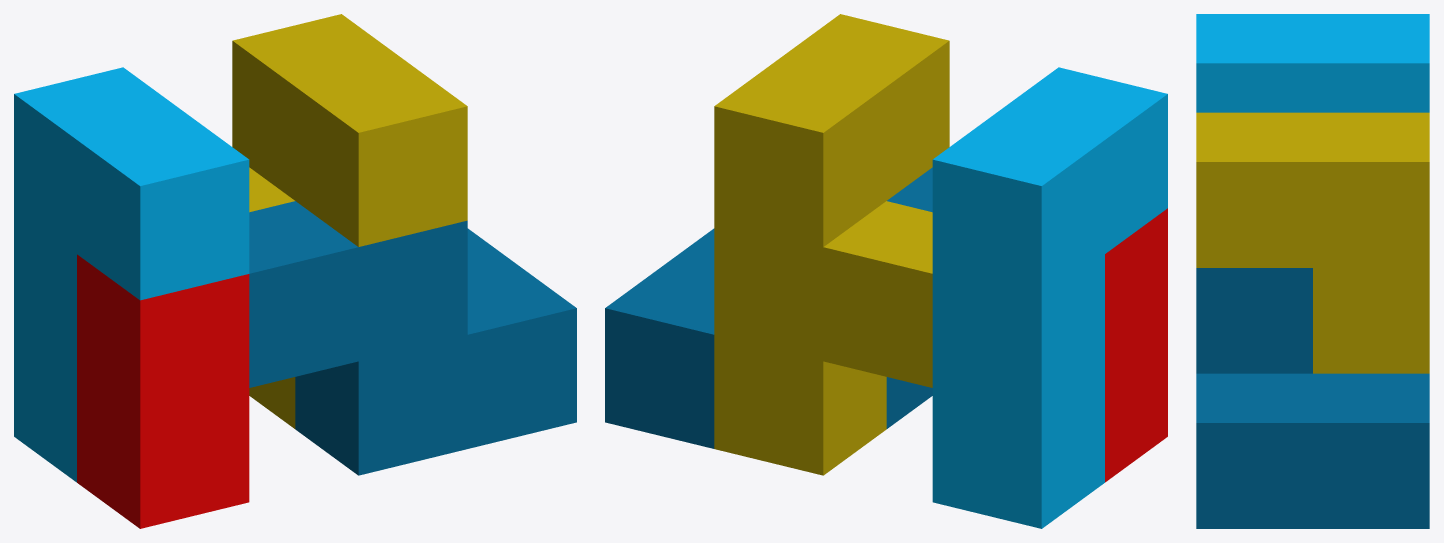
The picture shows the model from 3 angles, left to right: view 1: azimuth 30°, elevation 25°; view 2: azimuth 150°, elevation 25°; view 3: azimuth 270°, elevation 25°; orthographic projection. The views are drawn at different scales.
Visible parts, largest first — view 1: mergedBlocks(Clone); view 2: mergedBlocks(Clone); view 3: mergedBlocks(Clone).
Part boxes in pixels (x1=…): mergedBlocks(Clone): x1=14, y1=14, x2=576, y2=528; mergedBlocks(Clone): x1=605, y1=14, x2=1167, y2=528; mergedBlocks(Clone): x1=1196, y1=14, x2=1429, y2=528.
Size of the model in its own units: 4 by 3 by 2.
Materials: 4 (4 with a texture image).
